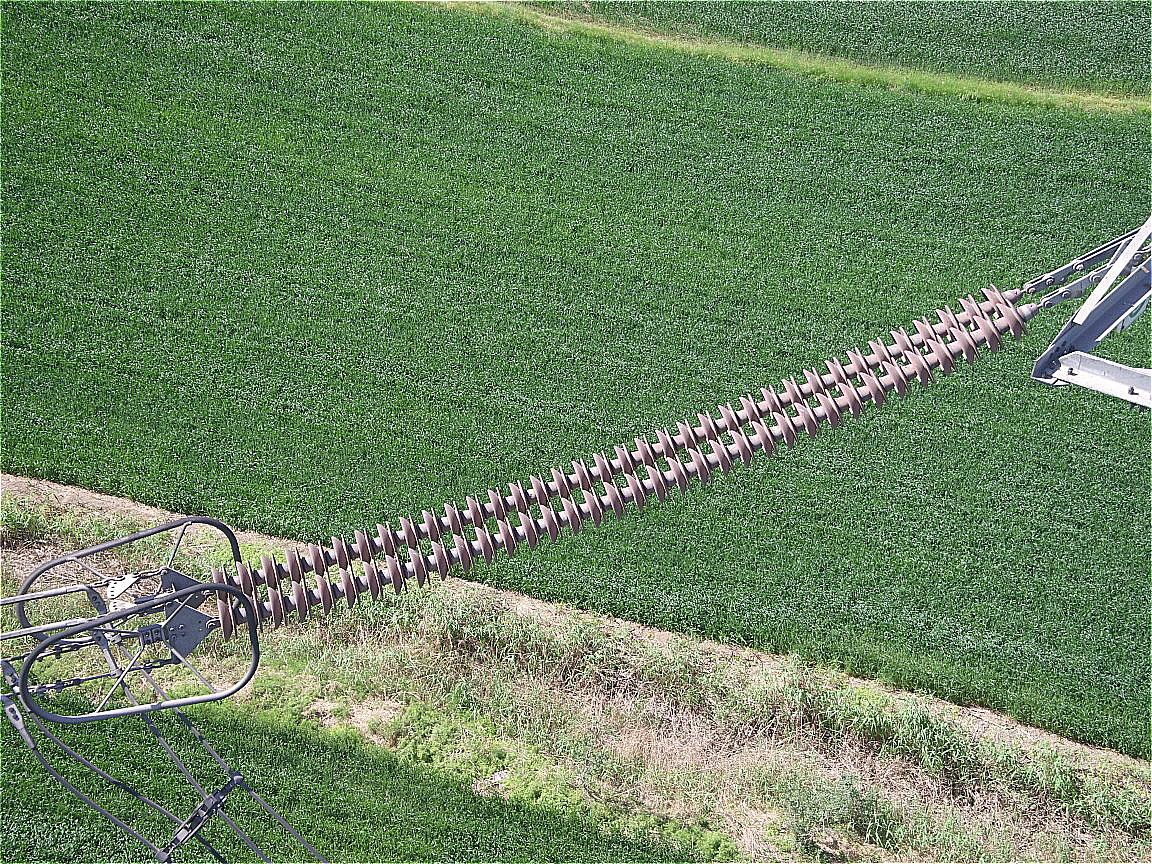insultor2: (211, 283, 1026, 642)
